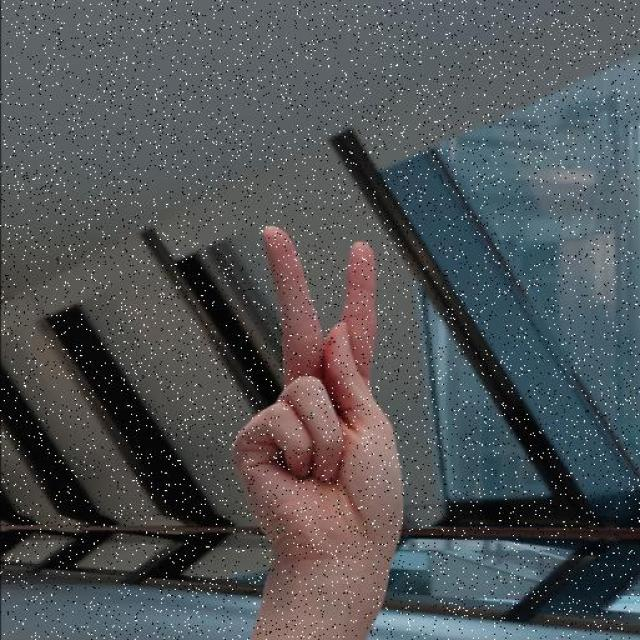K: (225, 222, 408, 564)
